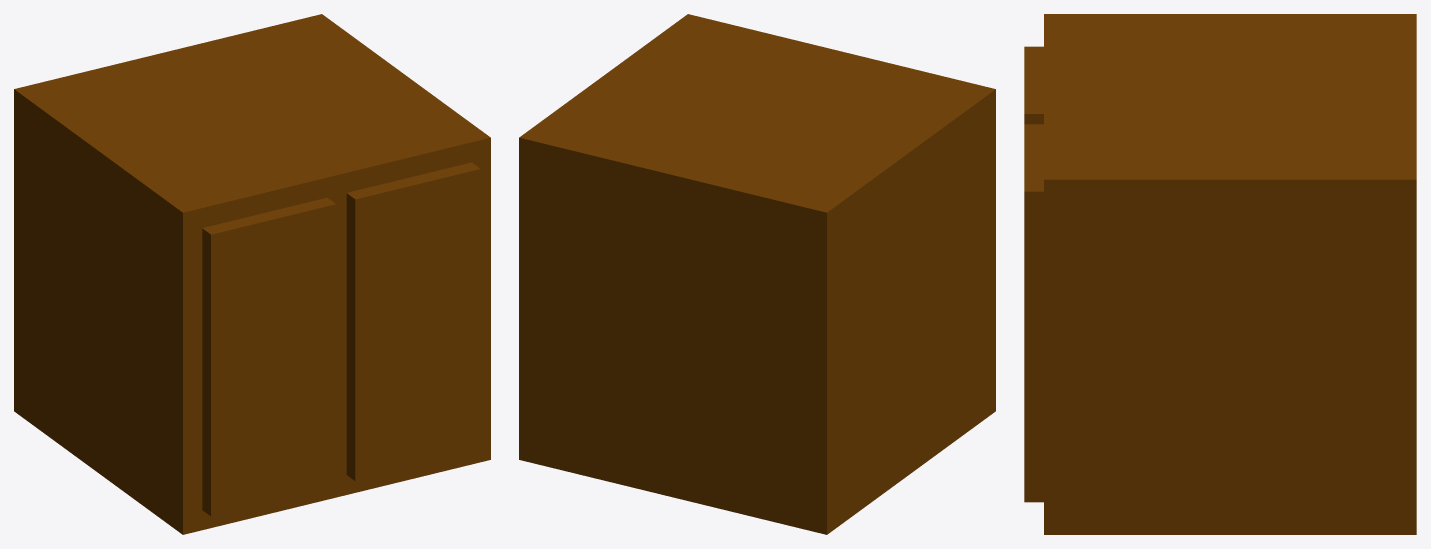
File: cupboard.glb
3 renders of one model, left to right at view 1: azimuth 30°, elevation 25°; view 2: azimuth 150°, elevation 25°; view 3: azimuth 270°, elevation 25°, orthographic. The views are drawn at different scales.
Visible parts, largest first — view 1: cupboard; view 2: cupboard; view 3: cupboard.
Boxes of the visible parts, x1,y1,x2,y2 form: cupboard: [14, 14, 490, 534]; cupboard: [519, 14, 995, 534]; cupboard: [1024, 14, 1416, 534].
Size of the model in its own units: 1 by 1 by 1.
